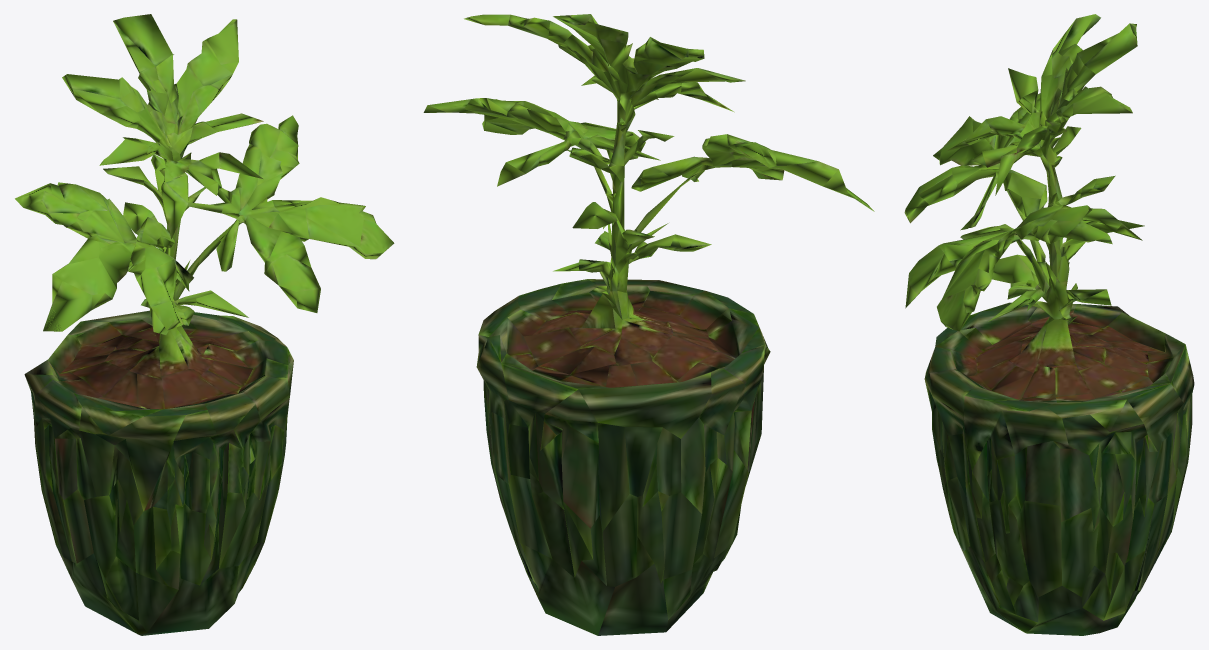
The model's file is getkong-gruen2.glb.
3 views of the same model, side by side, from view 1: azimuth 30°, elevation 25°; view 2: azimuth 150°, elevation 25°; view 3: azimuth 270°, elevation 25° (orthographic). The views are drawn at different scales.
Parts seen in each view (by area): view 1: output_unwrapped; view 2: output_unwrapped; view 3: output_unwrapped.
Boxes of the visible parts, x1,y1,x2,y2 form: output_unwrapped: (15, 14, 394, 635); output_unwrapped: (423, 14, 874, 635); output_unwrapped: (904, 14, 1194, 635).
Size of the model in its own units: 1.22 by 1.85 by 0.8381.
Materials: 1 (1 with a texture image).
